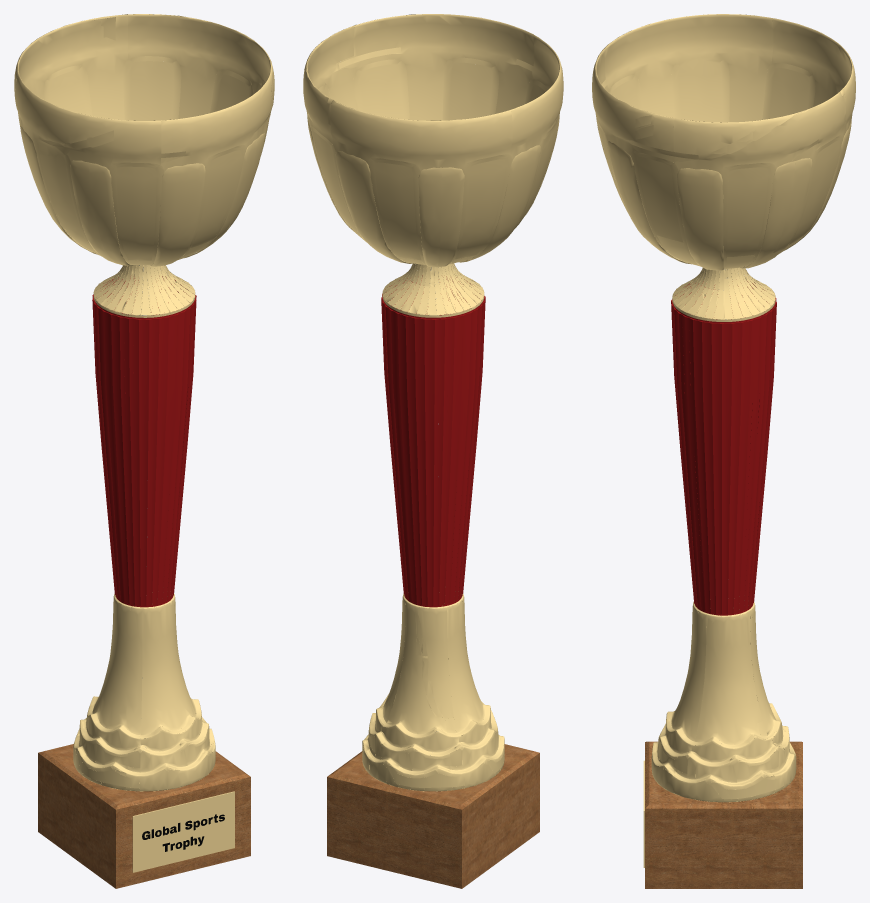
Rendered from wanderpokal_generic.glb.
3 views of the same model, side by side, from view 1: azimuth 30°, elevation 25°; view 2: azimuth 150°, elevation 25°; view 3: azimuth 270°, elevation 25° (orthographic).
Visible parts, largest first — view 1: GoldTrophy; view 2: GoldTrophy; view 3: GoldTrophy.
Boxes of the visible parts, bbox=[...] form: GoldTrophy: bbox=[14, 14, 274, 888]; GoldTrophy: bbox=[303, 14, 563, 888]; GoldTrophy: bbox=[592, 14, 855, 888].
Size of the model in its own units: 3.34 by 11 by 3.34.
Materials: 7 (5 with a texture image).
